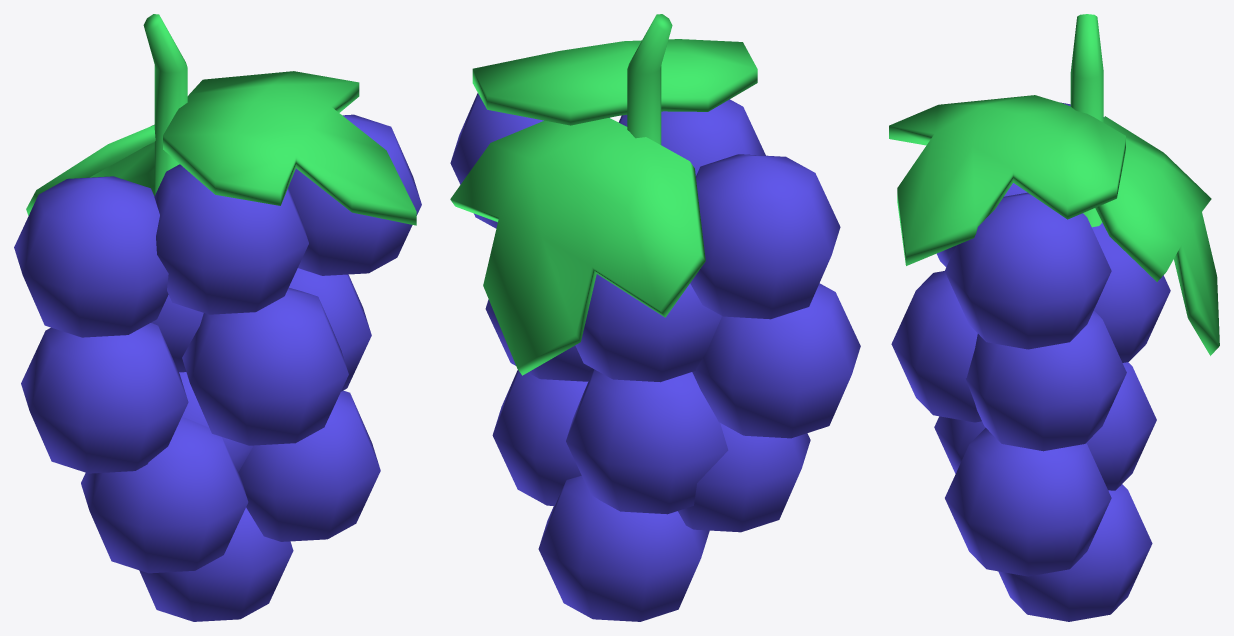
The model's file is uva_bianca_marcia.fbx.
The picture shows the model from 3 angles, left to right: view 1: azimuth 30°, elevation 25°; view 2: azimuth 150°, elevation 25°; view 3: azimuth 270°, elevation 25°; orthographic projection. The views are drawn at different scales.
Parts seen in each view (by area): view 1: uva_bianca_marcia; view 2: uva_bianca_marcia; view 3: uva_bianca_marcia.
Boxes of the visible parts, left/top/right/bottom form: uva_bianca_marcia: left=14, top=14, right=421, bottom=621; uva_bianca_marcia: left=450, top=14, right=860, bottom=621; uva_bianca_marcia: left=889, top=14, right=1219, bottom=621.
Size of the model in its own units: 138 by 209 by 107.
